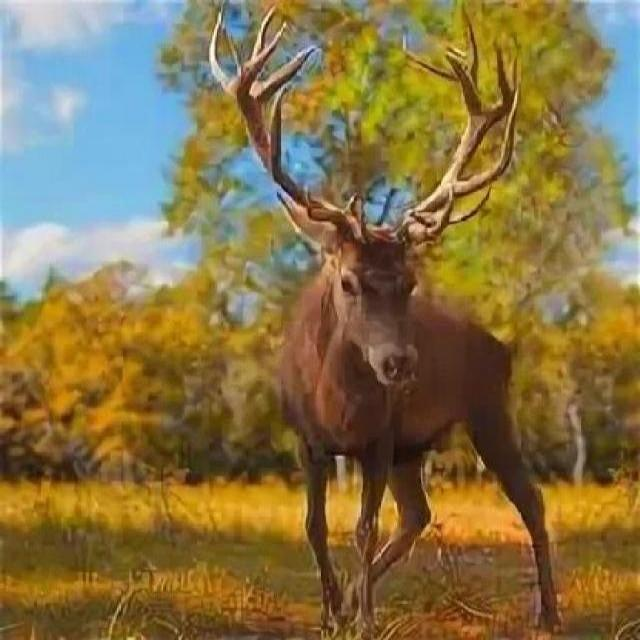deer: (168, 91, 612, 609)
